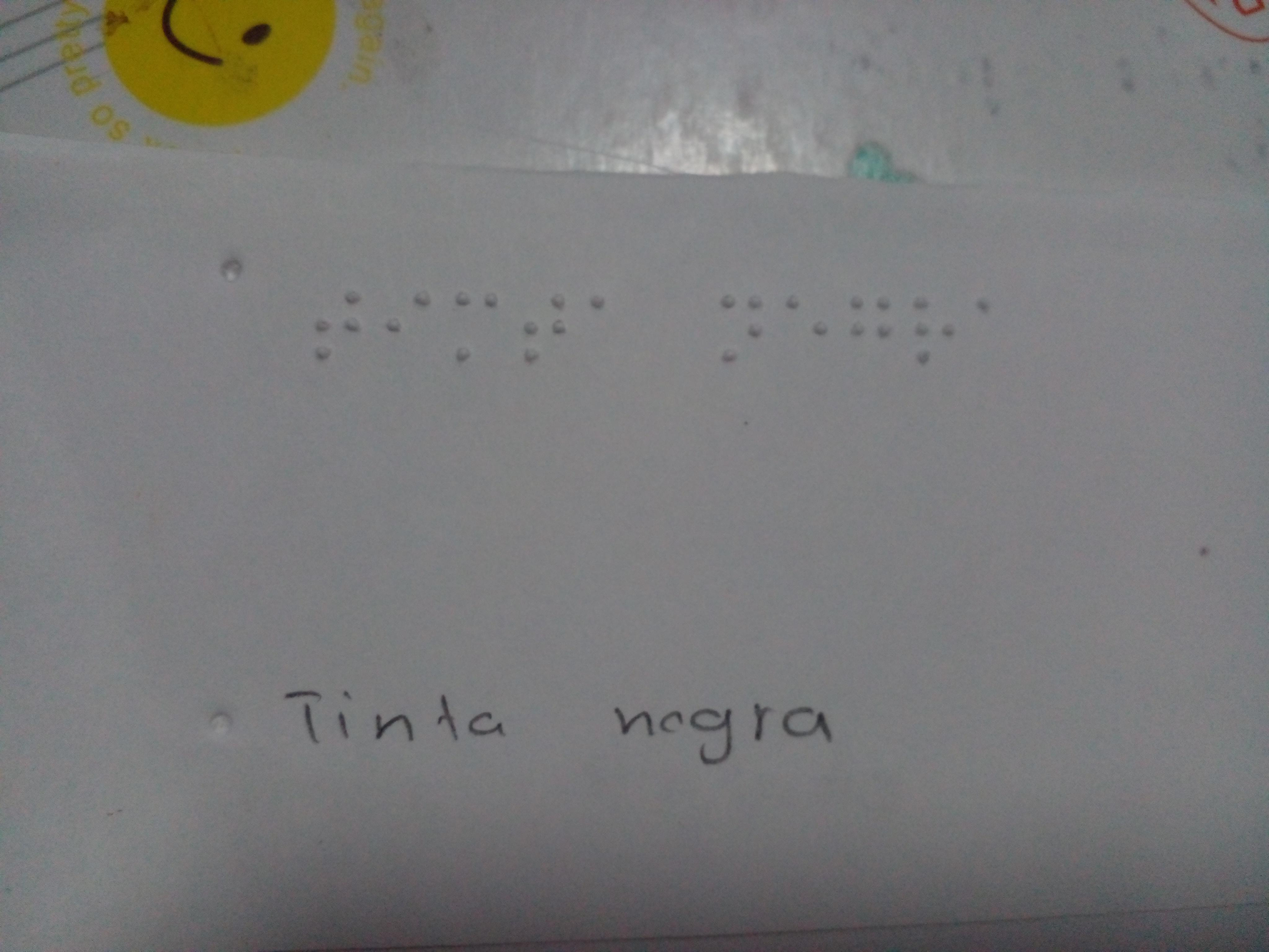a: (960, 285, 1010, 327), (586, 282, 615, 333)
e: (782, 282, 832, 356)
g: (843, 290, 903, 363)
i: (381, 271, 432, 359)
m: (449, 277, 505, 377)
n: (711, 285, 773, 378)
r: (906, 293, 962, 373)
t: (304, 263, 376, 372), (522, 279, 570, 377)
